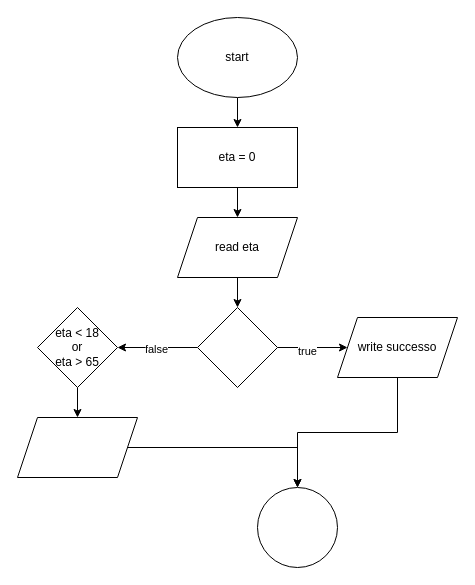
The diagram is 475 pixels wide and 585 high, and some of its shapes have lost their labels. Here are the shapes that lost their labels. From the top down, the centre of each, then its label:
At [237,347]: "eta >= 18 and eta <=65".
At [77,447]: "write non puoi partecipare".
At [297,527]: "end".
